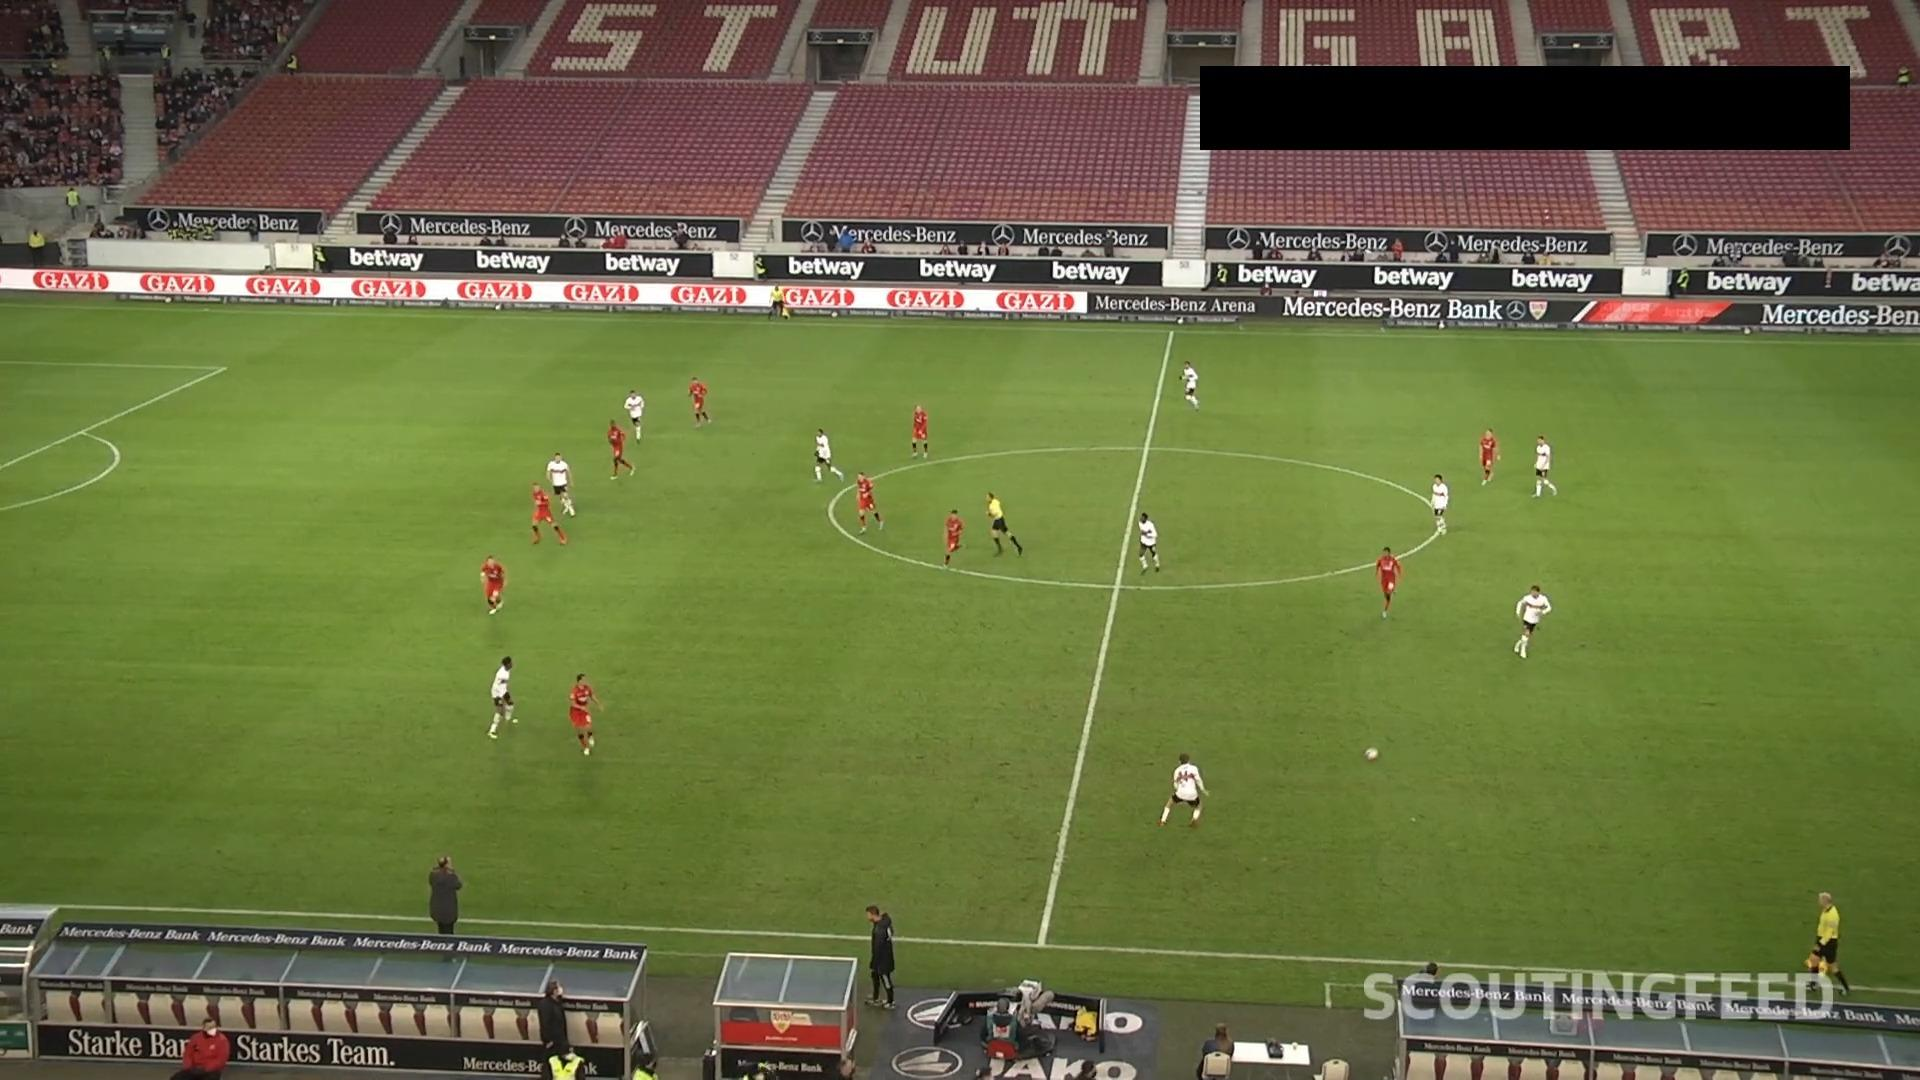ball: (1362, 745, 1381, 762)
